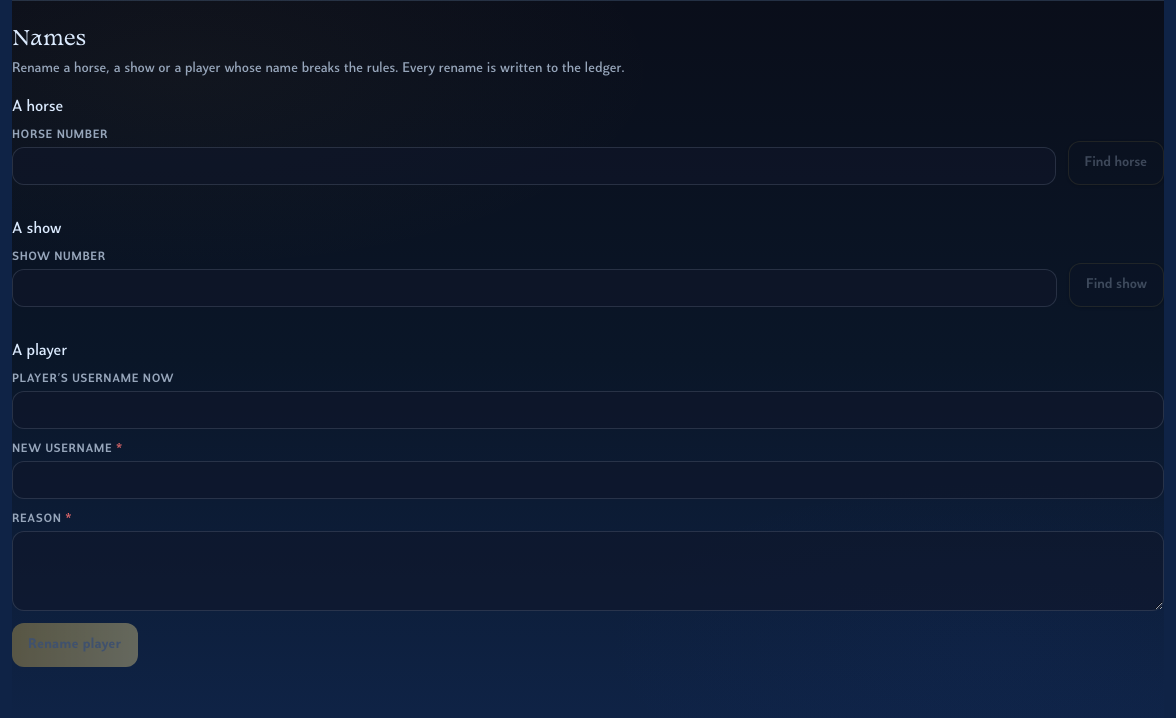
Test: StaffRenames › shows the horse and its owner, then renames it with a reason and shows the new name
Type "42" into the field labelled "Horse number" at (534, 166), box 12,147 -> 1056,185
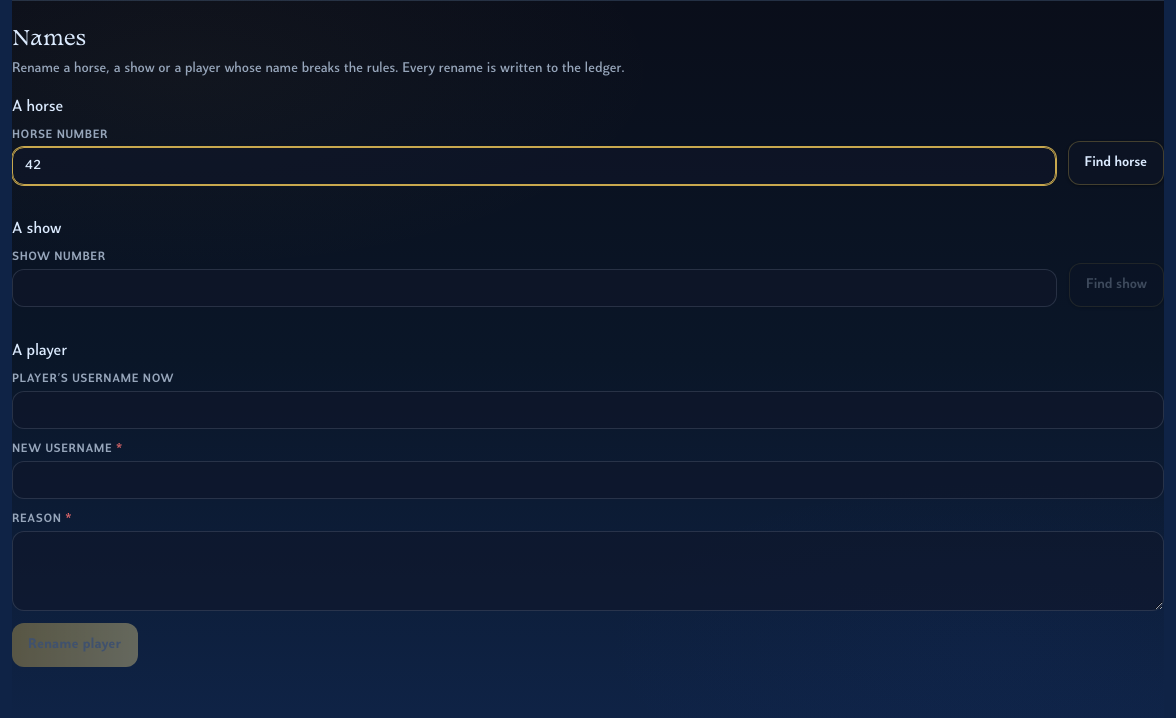
Click the button "Find horse" at (1116, 163), box 1068,141 -> 1164,185
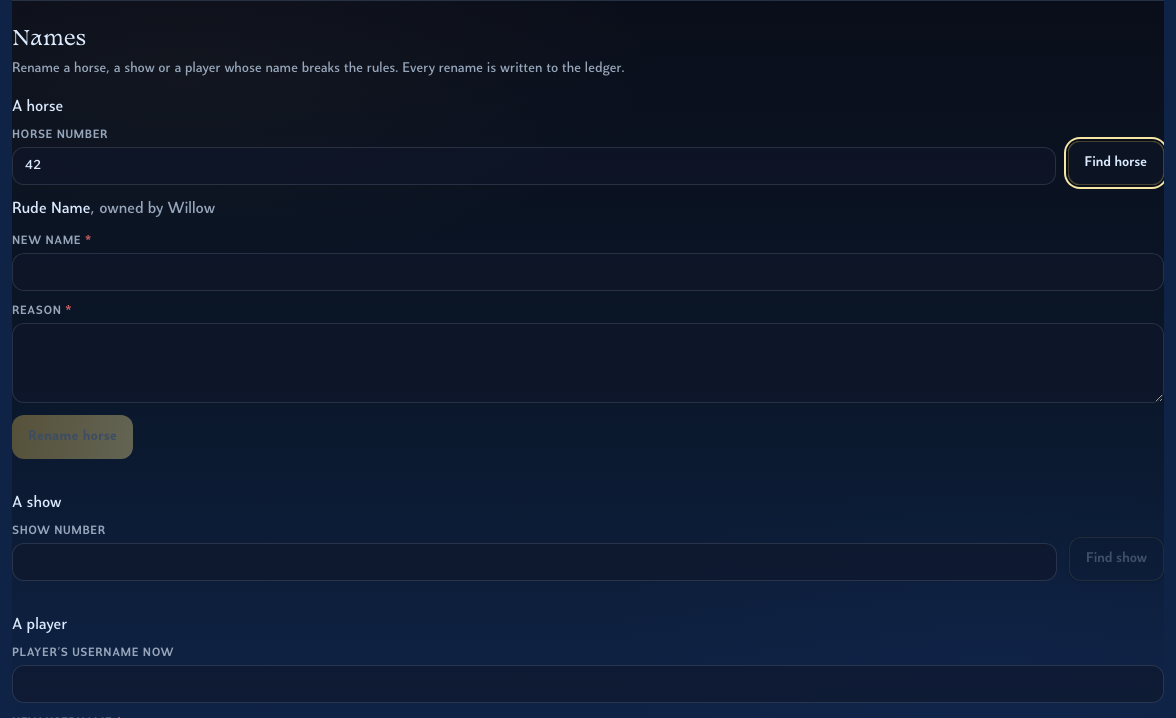
Now the text ", owned by Willow" is shown, box 90,201 -> 215,217
Now the text "Rude Name, owned by Willow" is shown, box 12,201 -> 215,217
Now the button "Rename horse" is disabled, box 12,415 -> 133,459
Type "Bramble" into the field labelled "New name *" at (588, 272), box 12,253 -> 1164,291
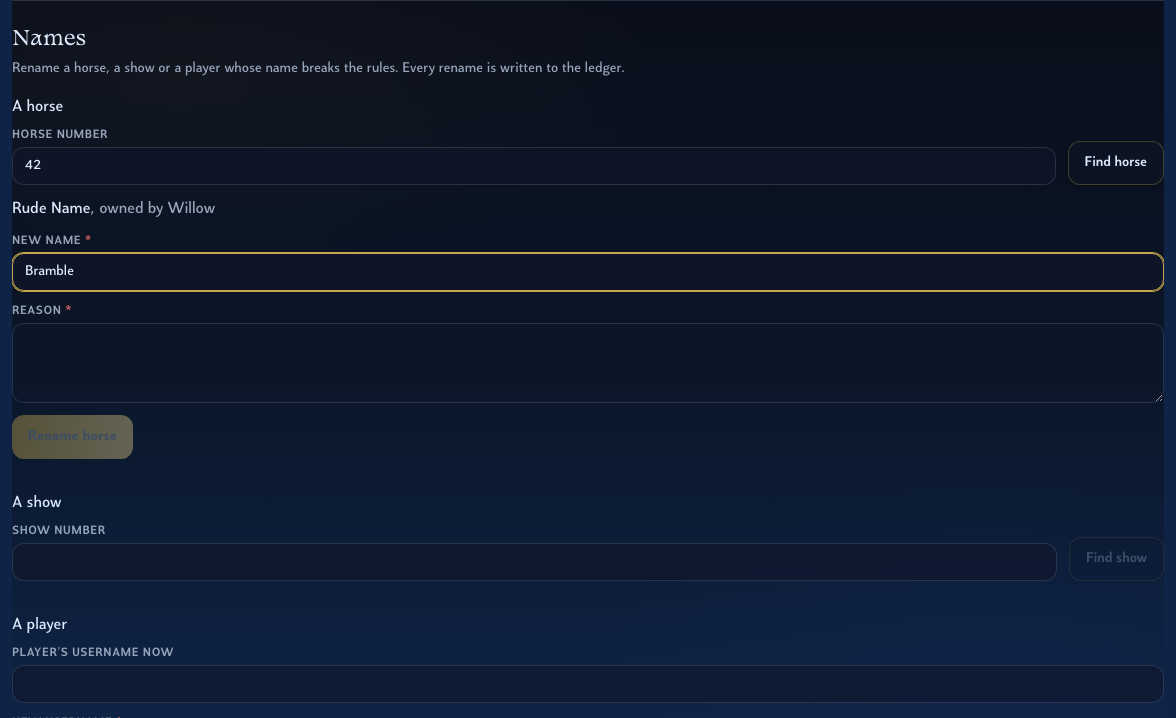
Type "Offensive name" into the text box labelled "Reason *" at (588, 363), box 12,323 -> 1164,403
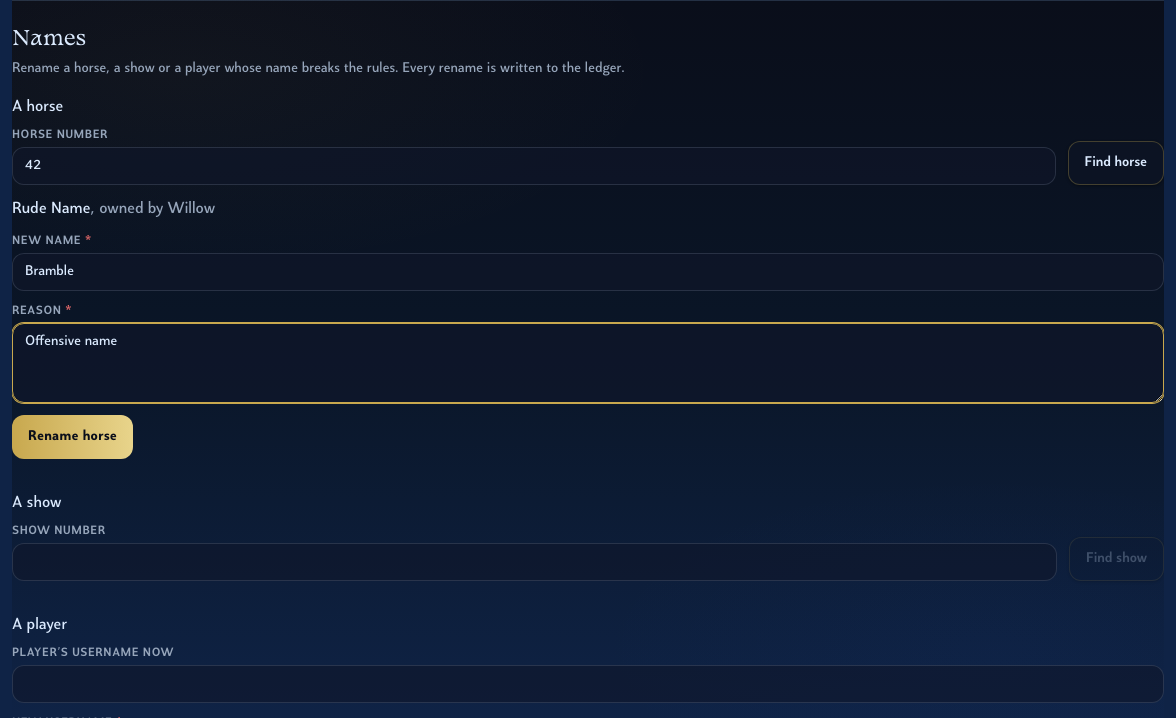
Click the button "Rename horse" at (73, 437), box 12,415 -> 133,459
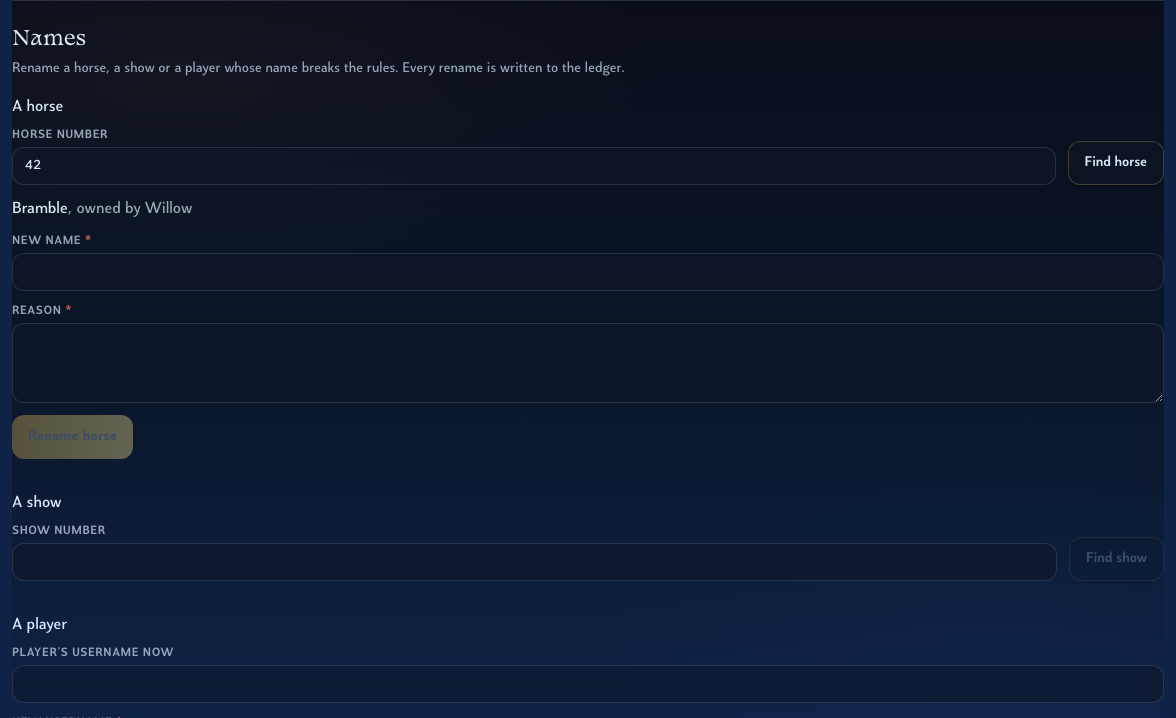
Now the text "Bramble, owned by Willow" is shown, box 12,201 -> 192,217
Now the text "Rude Name" is gone
